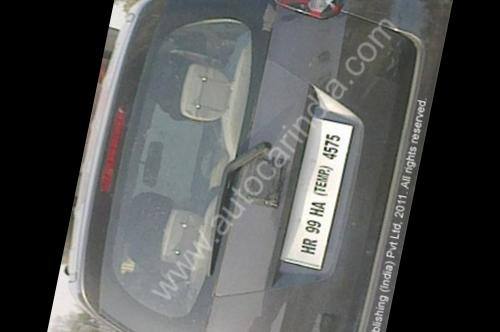plate: (265, 96, 371, 280)
